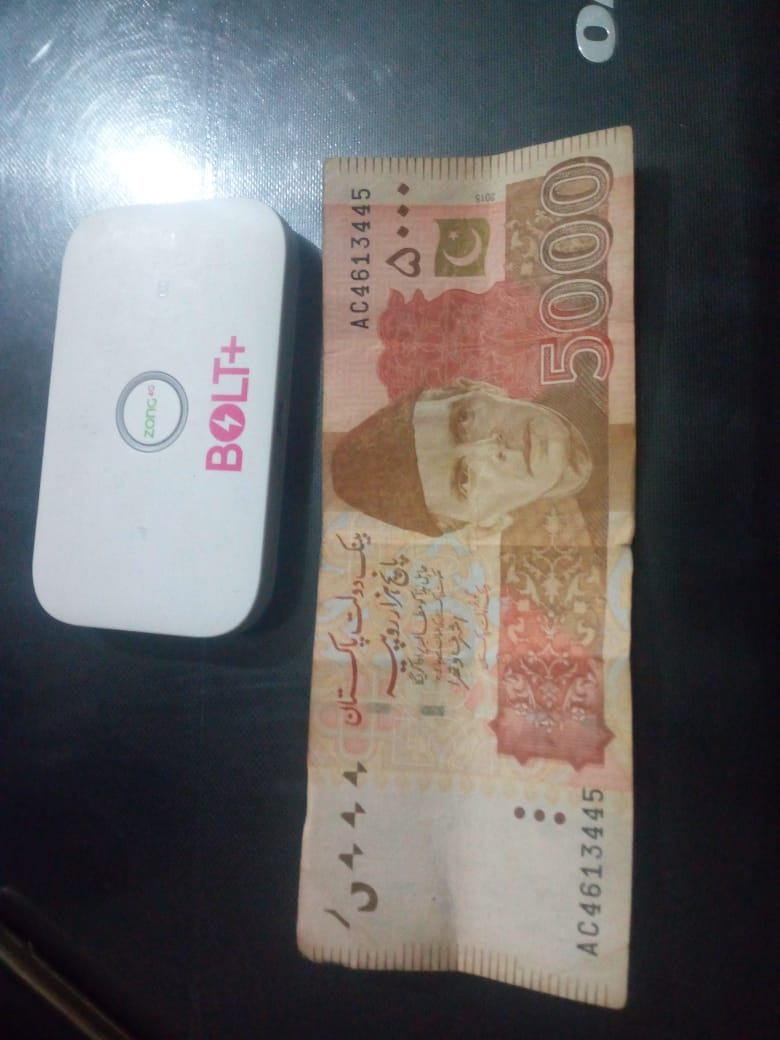5000 rupee: (310, 124, 640, 1038)
